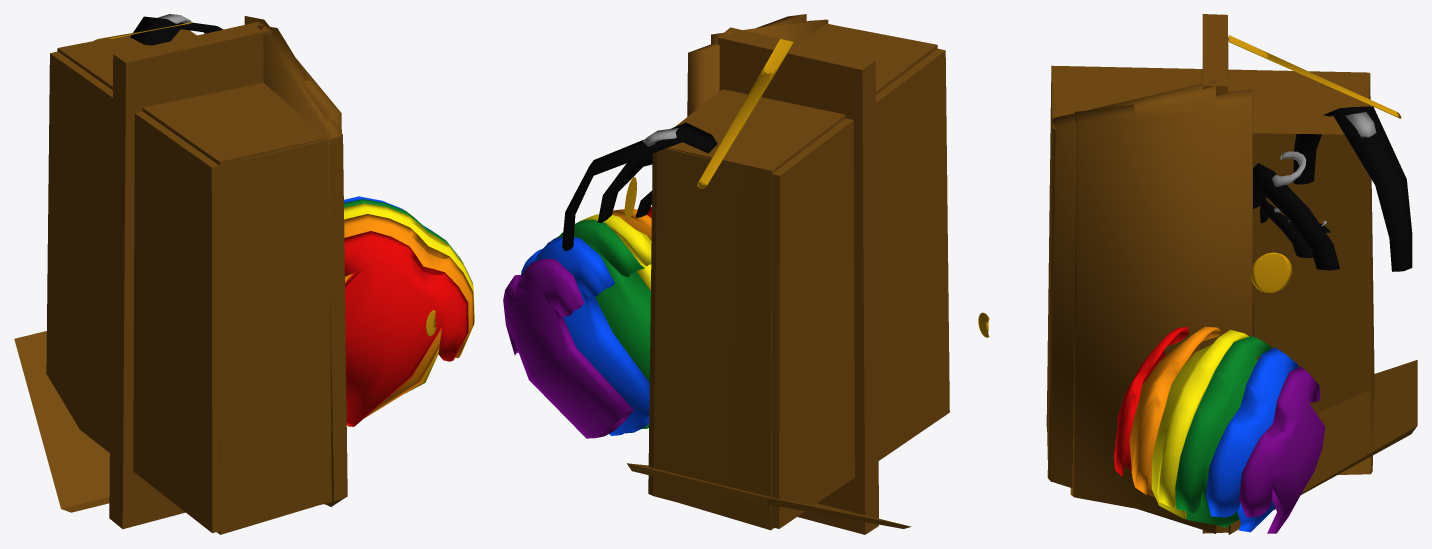
Rendered from Wardrobe3.fbx.
The picture shows the model from 3 angles, left to right: view 1: azimuth 30°, elevation 25°; view 2: azimuth 150°, elevation 25°; view 3: azimuth 270°, elevation 25°; orthographic projection. The views are drawn at different scales.
Parts seen in each view (by area): view 1: Closet, Shirts, Hanger.004; view 2: Closet, Shirts, Hanger.004; view 3: Closet, Shirts, Hanger.004.
Part boxes in pixels (left/top/right/bottom): Closet: left=14, top=16, right=436, bottom=534; Shirts: left=344, top=196, right=474, bottom=426; Hanger.004: left=130, top=14, right=223, bottom=45; Closet: left=624, top=14, right=949, bottom=534; Shirts: left=503, top=207, right=651, bottom=438; Hanger.004: left=562, top=122, right=717, bottom=250; Closet: left=978, top=14, right=1417, bottom=534; Shirts: left=1114, top=326, right=1325, bottom=533; Hanger.004: left=1253, top=106, right=1412, bottom=271.
Size of the model in its own units: 194 by 222 by 191.
